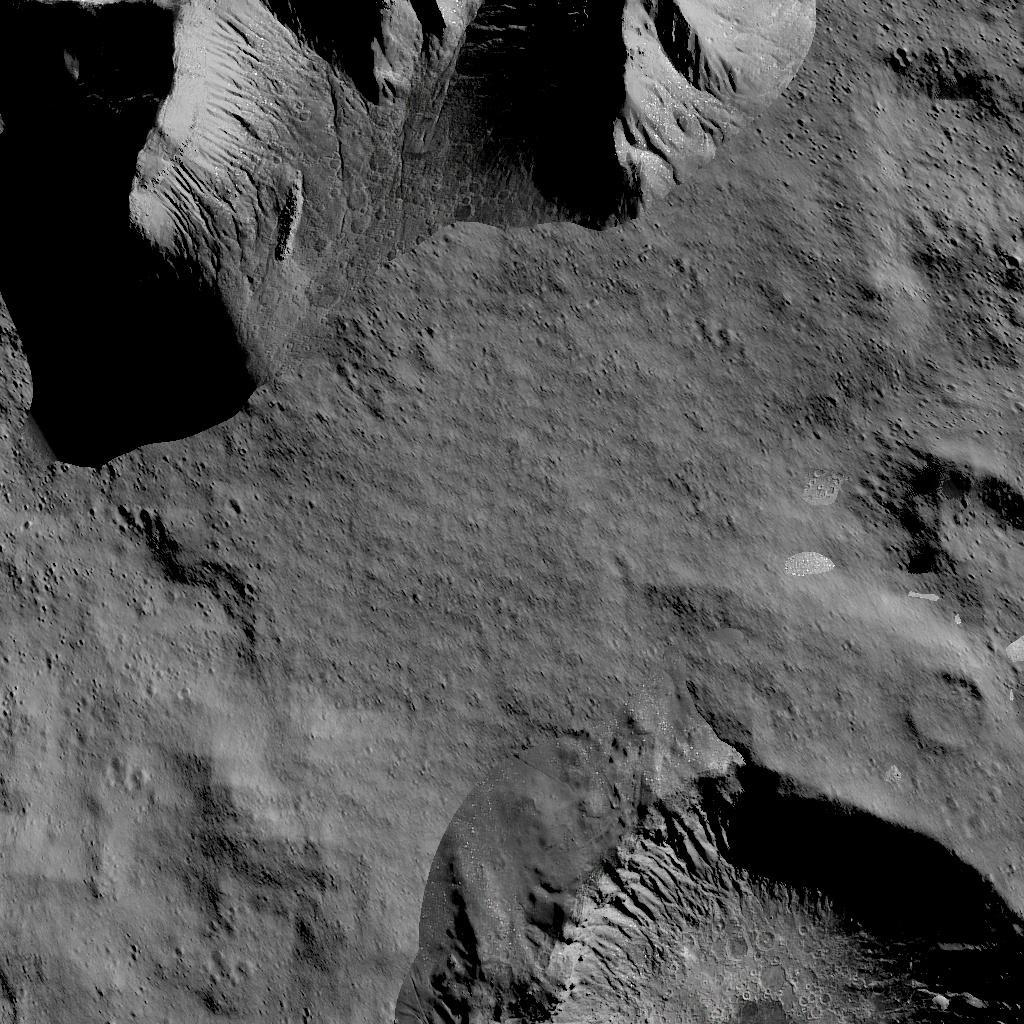Boulders: (28, 0, 826, 455)
Crater: (444, 726, 1024, 1024), (869, 406, 1024, 642)
Plan surface: (7, 494, 414, 1000), (448, 472, 834, 695), (855, 0, 1024, 376)
